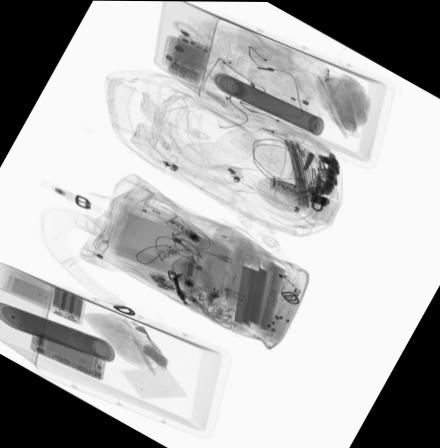Powerbank: (50, 286, 84, 323)
